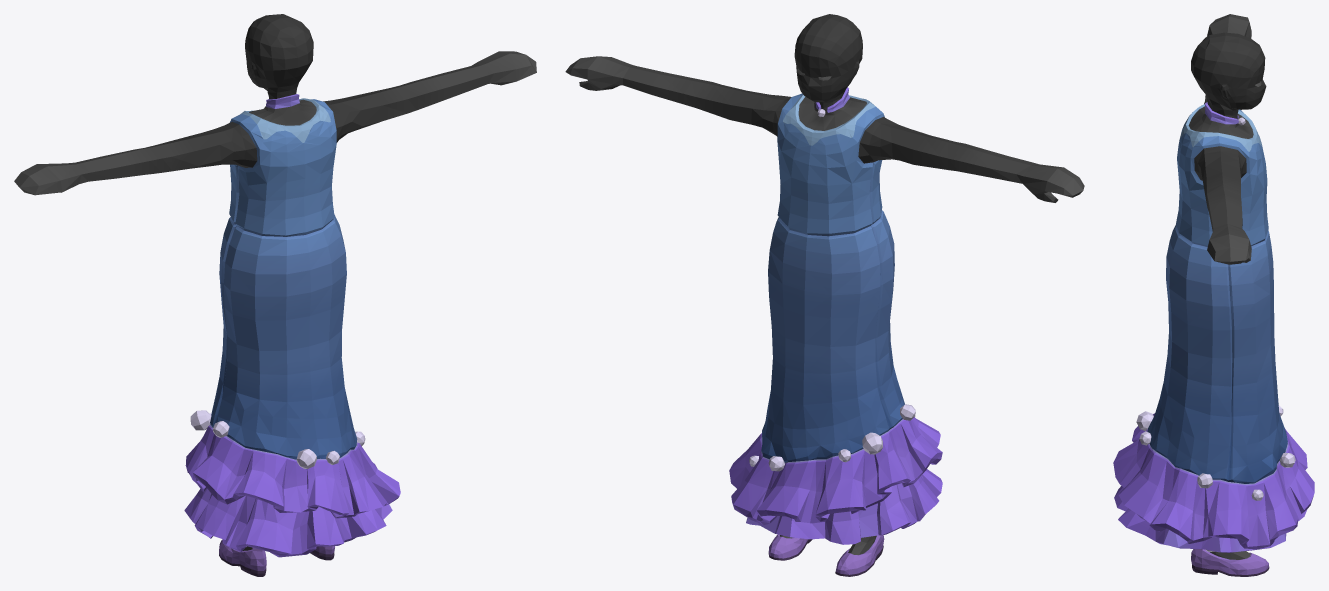
Rendered from CharSkyNPC_Body_AP32Gown.glb.
3 views of the same model, side by side, from view 1: azimuth 30°, elevation 25°; view 2: azimuth 150°, elevation 25°; view 3: azimuth 270°, elevation 25° (orthographic). The views are drawn at different scales.
Parts seen in each view (by area): view 1: CharSkyNPC_Body_AP32Gown; view 2: CharSkyNPC_Body_AP32Gown; view 3: CharSkyNPC_Body_AP32Gown.
Part boxes in pixels (x1,y1,x2,y2): CharSkyNPC_Body_AP32Gown: [14, 14, 536, 576]; CharSkyNPC_Body_AP32Gown: [565, 14, 1084, 576]; CharSkyNPC_Body_AP32Gown: [1113, 14, 1314, 576].
Size of the model in its own units: 13.83 by 13.76 by 4.84.
1 material, 1 textured.
